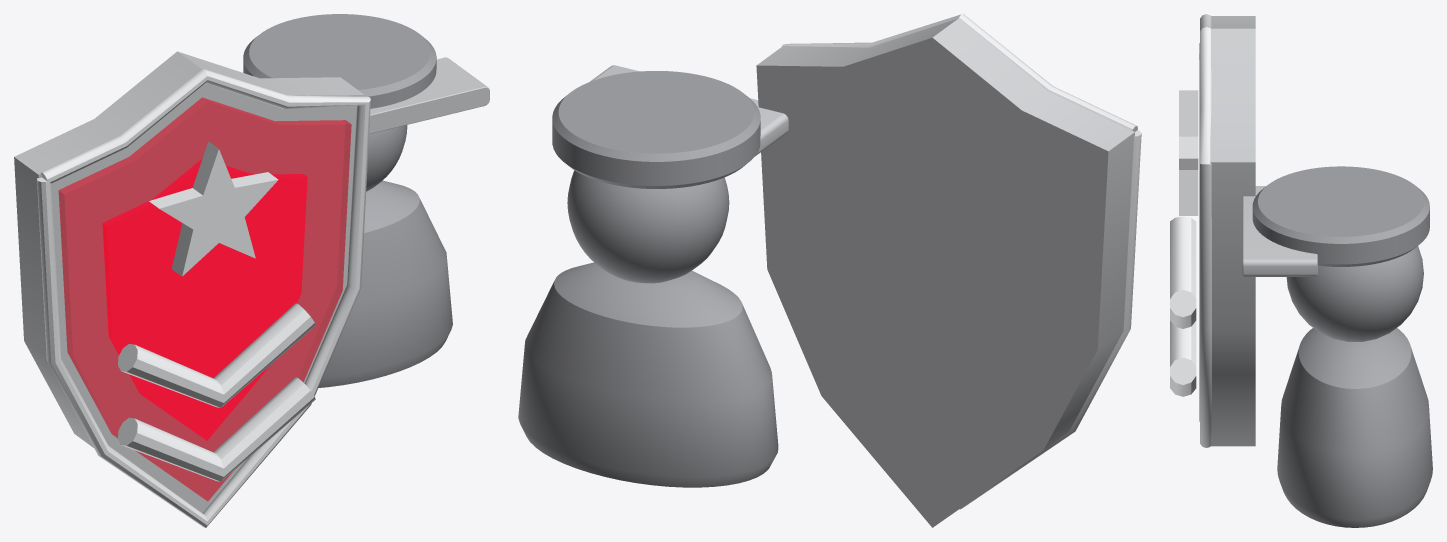
The model's file is 48-veteran-services.glb.
3 renders of one model, left to right at view 1: azimuth 30°, elevation 25°; view 2: azimuth 150°, elevation 25°; view 3: azimuth 270°, elevation 25°, orthographic. The views are drawn at different scales.
Visible parts, largest first — view 1: BC ruby optical glass, BC satin iron, BC polished iron bevel, BC brushed iron, BC internal ruby light; view 2: BC satin iron, BC brushed iron, BC polished iron bevel; view 3: BC brushed iron, BC satin iron, BC polished iron bevel, BC ruby optical glass.
Part boxes in pixels (<box>): BC ruby optical glass: <box>58,97,351,501</box>; BC satin iron: <box>14,51,489,513</box>; BC polished iron bevel: <box>37,68,370,527</box>; BC brushed iron: <box>243,14,452,387</box>; BC internal ruby light: <box>102,159,307,440</box>; BC satin iron: <box>590,18,1134,527</box>; BC brushed iron: <box>518,71,778,487</box>; BC polished iron bevel: <box>781,14,1141,509</box>; BC brushed iron: <box>1252,166,1432,527</box>; BC satin iron: <box>1210,16,1317,446</box>; BC polished iron bevel: <box>1170,14,1211,447</box>; BC ruby optical glass: <box>1199,43,1199,421</box>.
Size of the model in its own units: 1.87 by 1.68 by 0.9484.
